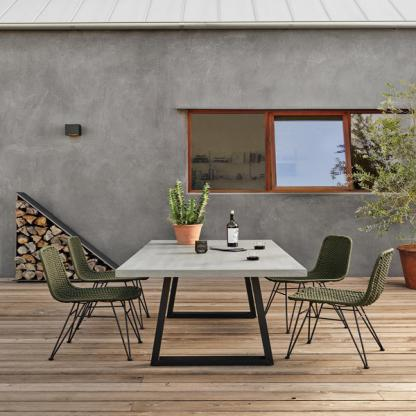table: (112, 233, 312, 375)
